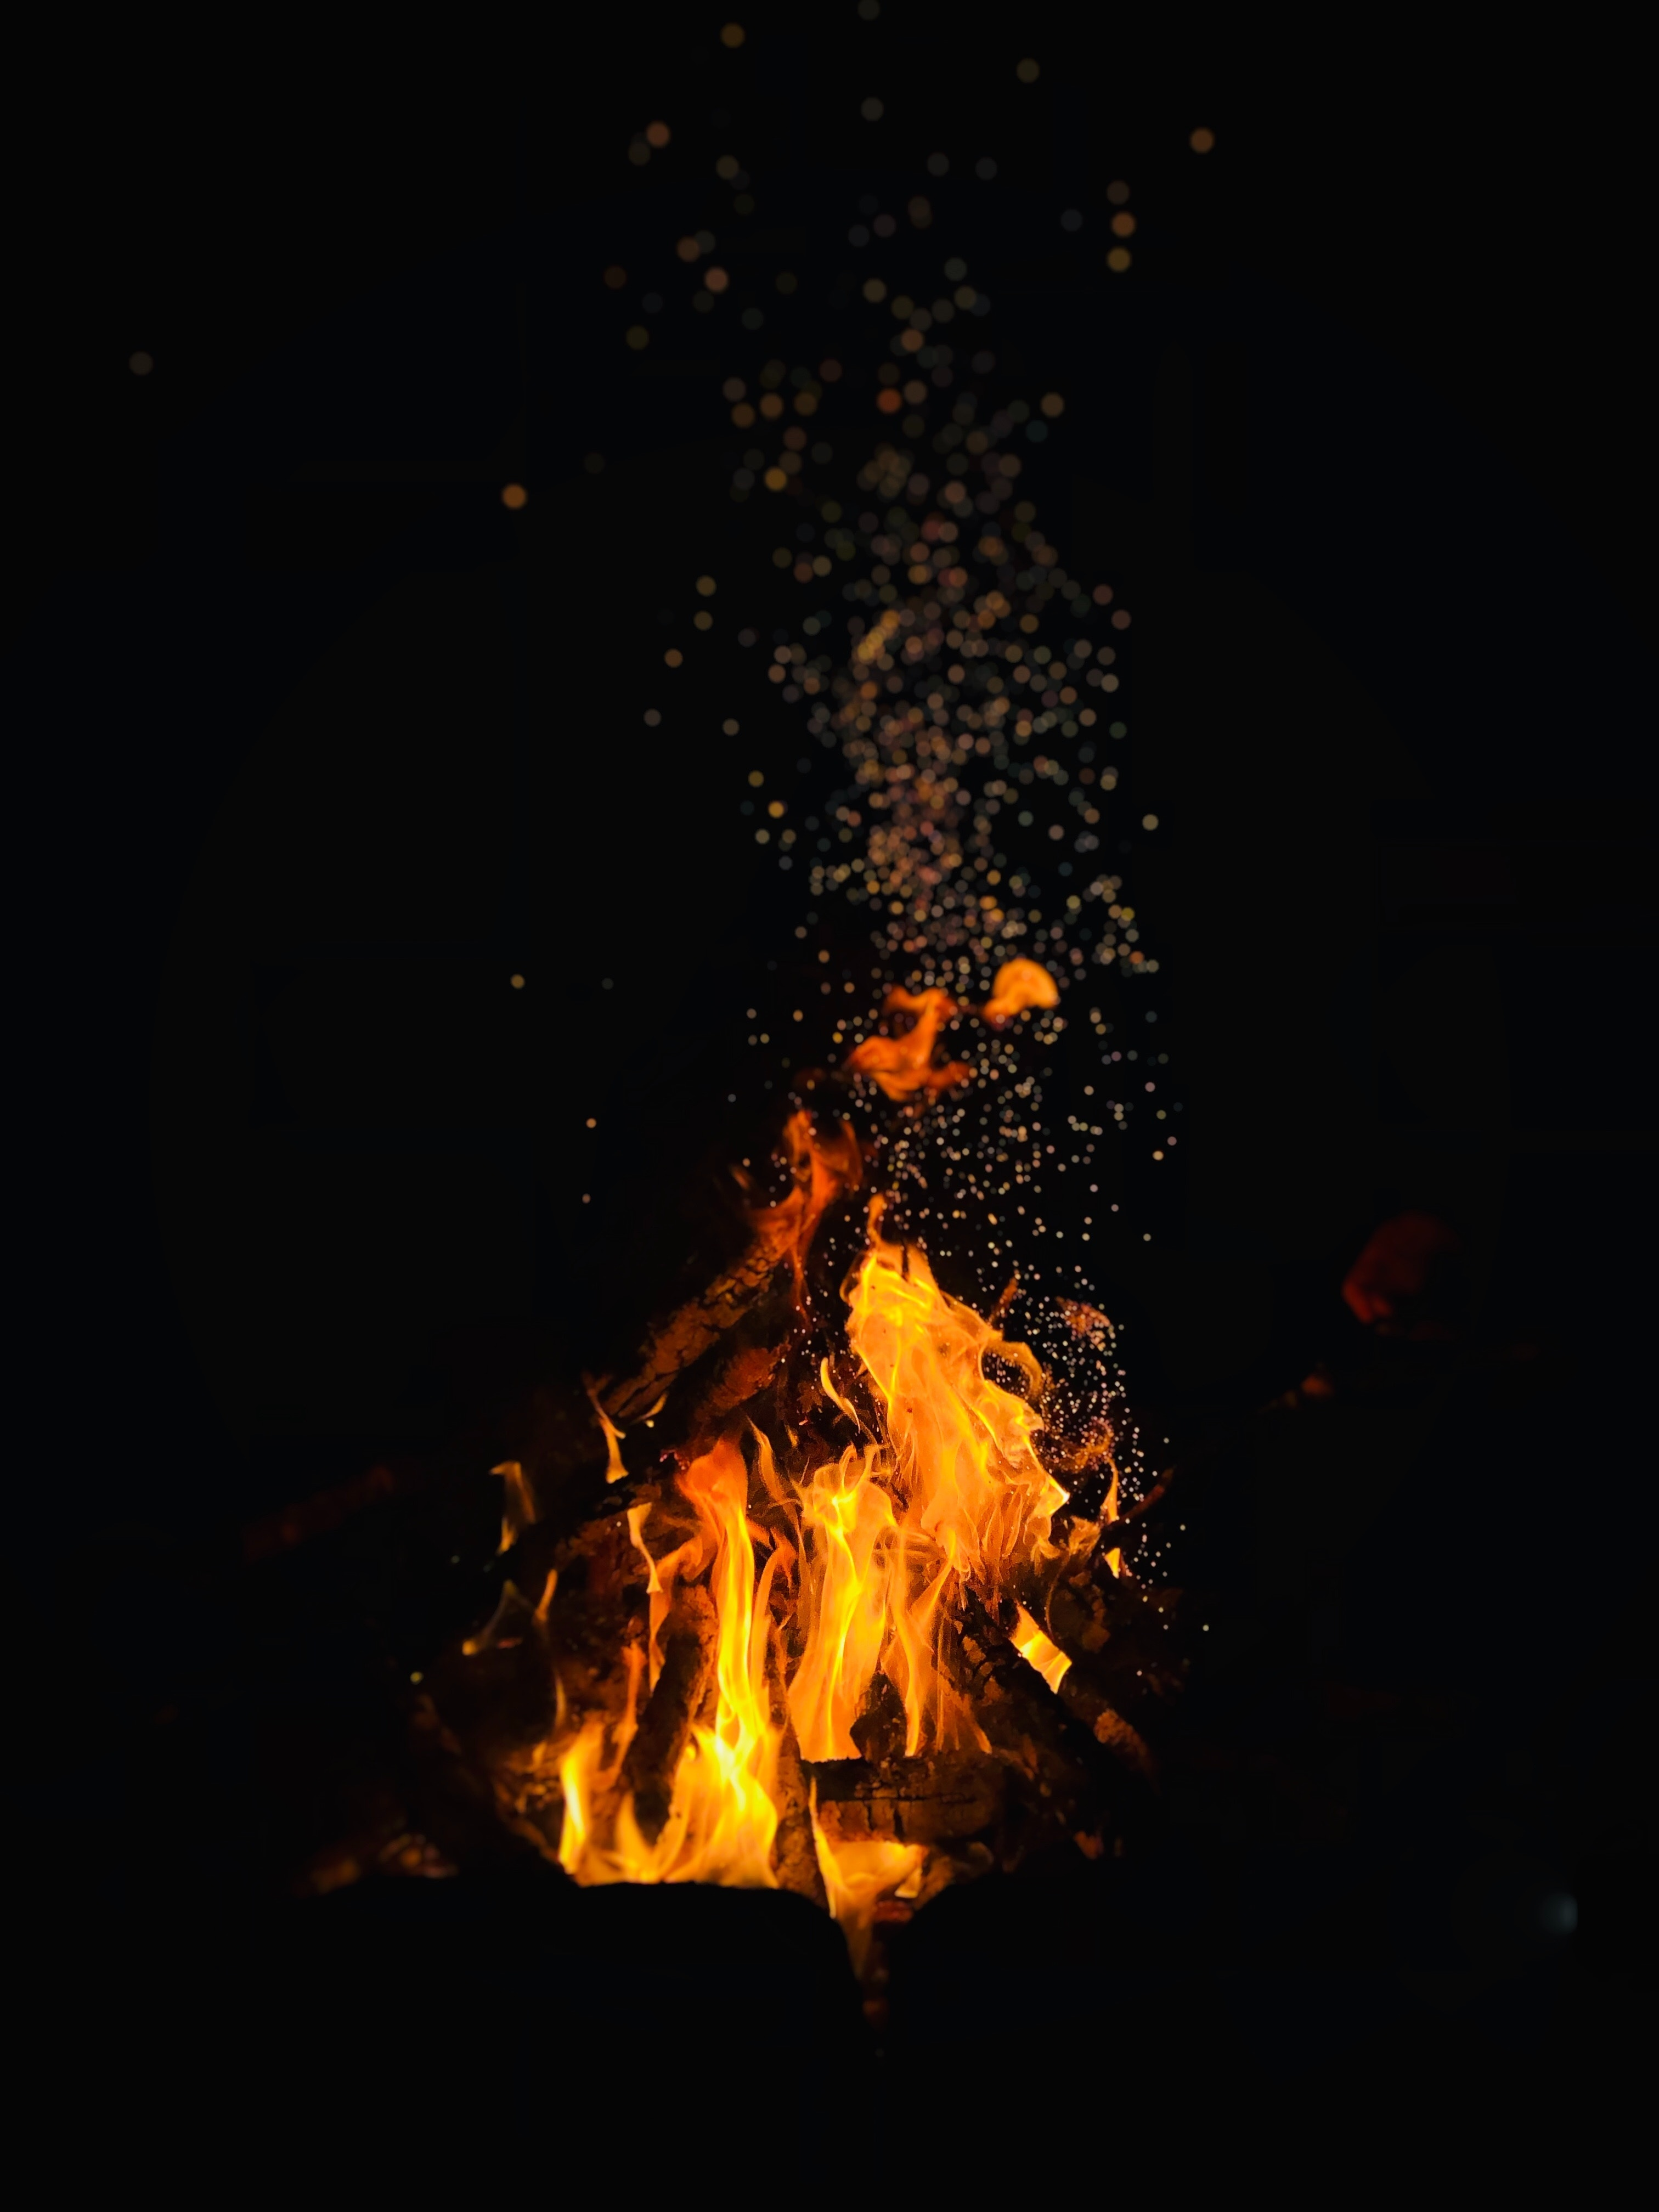fire: (458, 1101, 1159, 1904)
